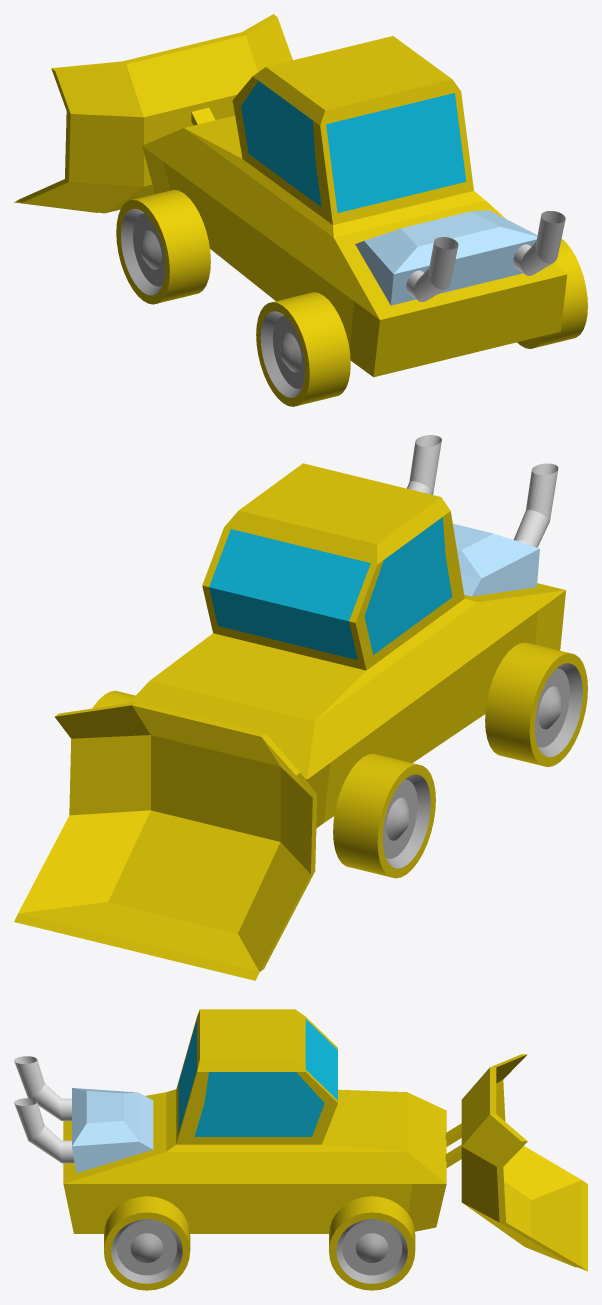
File: buldozer.fbx
3 renders of one model, top to bottom at view 1: azimuth 30°, elevation 25°; view 2: azimuth 150°, elevation 25°; view 3: azimuth 270°, elevation 25°, orthographic. The views are drawn at different scales.
Visible parts, largest first — view 1: buldozer, roues; view 2: buldozer, roues; view 3: buldozer, roues.
Part boxes in pixels (<box>): buldozer: <box>14,14,567,377</box>; roues: <box>116,189,587,406</box>; buldozer: <box>14,435,565,980</box>; roues: <box>92,642,587,878</box>; buldozer: <box>14,1009,587,1271</box>; roues: <box>104,1196,415,1290</box>.
Size of the model in its own units: 474 by 403 by 1036.
